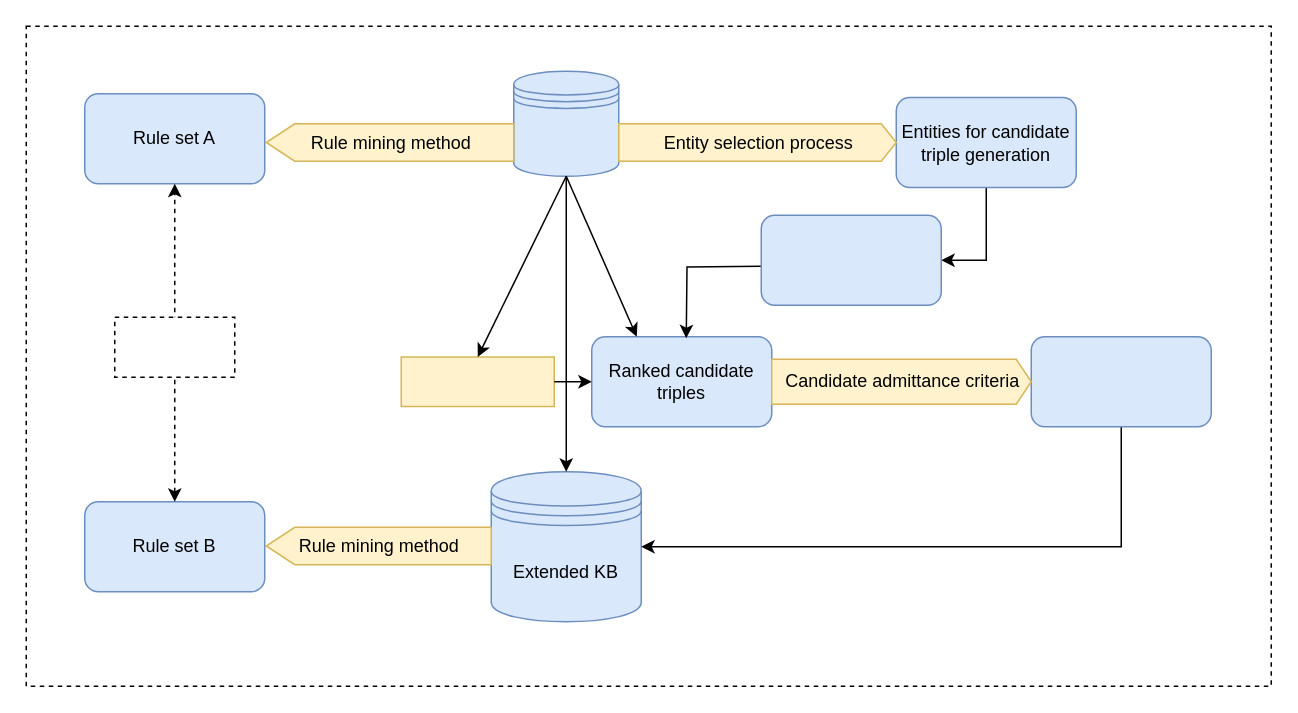
The diagram is 1298 pixels wide and 713 high, and some of its shapes have lost their labels. Each missing label, with the centre of its shape:
"Accepted new triples" belongs at (1120,381).
"Candidate triples" belongs at (850,259).
"KG embedding" belongs at (477,381).
"Original KB" belongs at (565,123).
"Rule comparison" belongs at (174,346).
